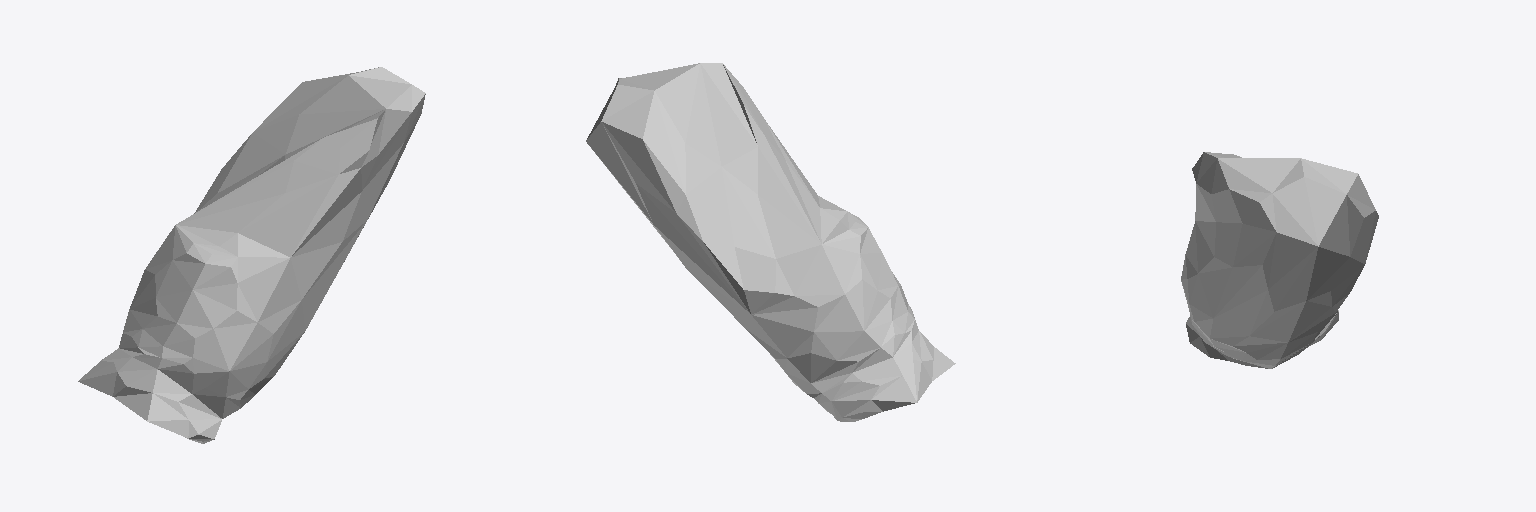
File: p_uarm.obj
3 renders of one model, left to right at view 1: azimuth 30°, elevation 25°; view 2: azimuth 150°, elevation 25°; view 3: azimuth 270°, elevation 25°, orthographic.
Parts seen in each view (by area): view 1: ct_gign.ct_gign_reference.smd.mesh_2.005_ct_gign.ct_gign_referen; view 2: ct_gign.ct_gign_reference.smd.mesh_2.005_ct_gign.ct_gign_referen; view 3: ct_gign.ct_gign_reference.smd.mesh_2.005_ct_gign.ct_gign_referen.
Part boxes in pixels (bbox=[...]): ct_gign.ct_gign_reference.smd.mesh_2.005_ct_gign.ct_gign_referen: bbox=[78, 67, 425, 443]; ct_gign.ct_gign_reference.smd.mesh_2.005_ct_gign.ct_gign_referen: bbox=[586, 63, 955, 421]; ct_gign.ct_gign_reference.smd.mesh_2.005_ct_gign.ct_gign_referen: bbox=[1181, 152, 1378, 368].
Bounding box in the file's own units: 13.67 × 11.8 × 7.17.